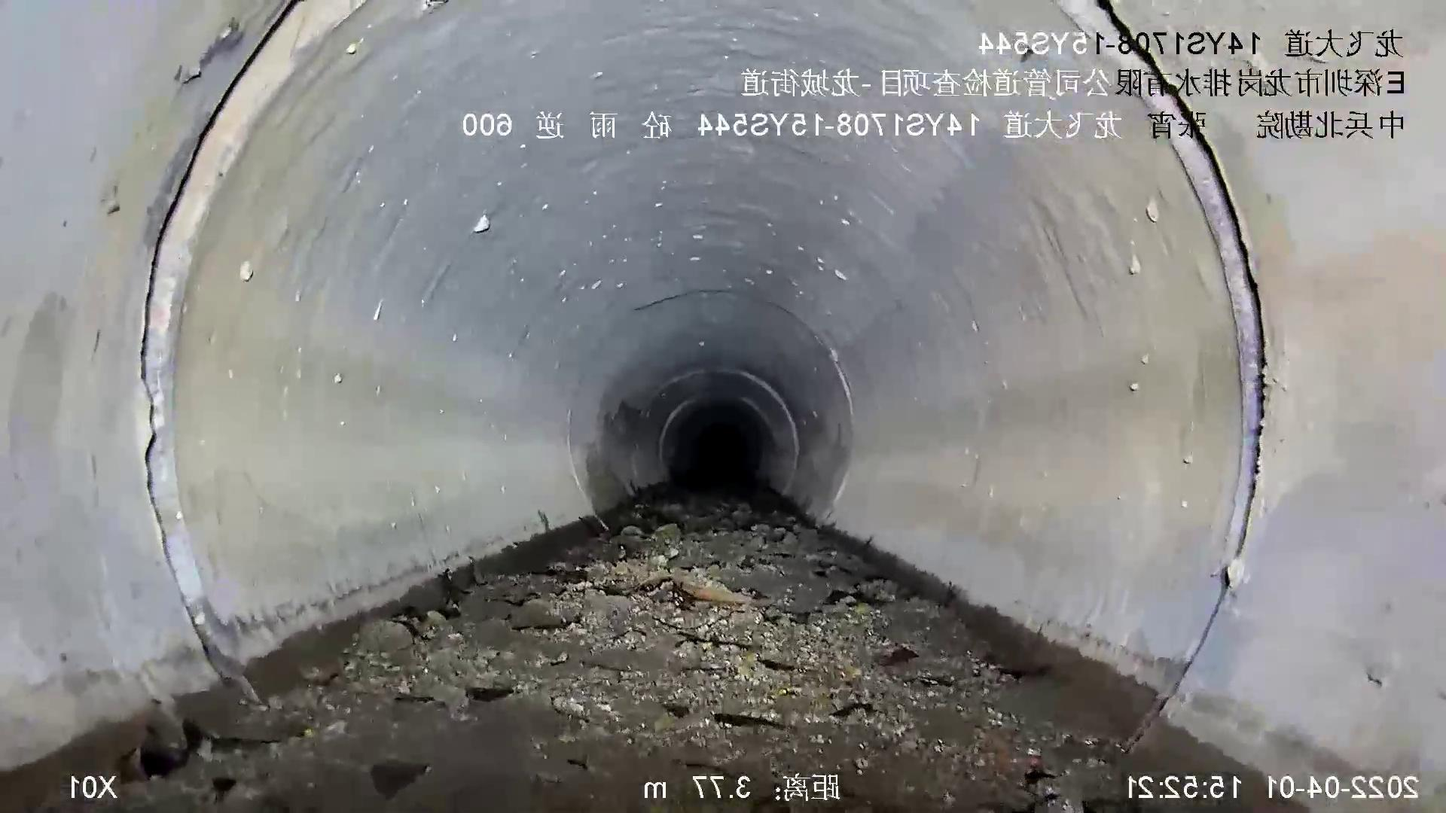CJ: (25, 493, 1146, 812)
CKTJ: (141, 0, 368, 708), (1130, 39, 1268, 735), (1058, 0, 1131, 38)
